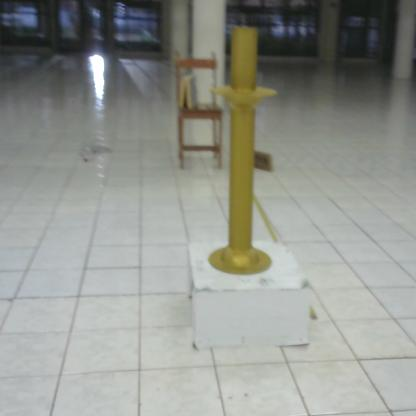pole: (207, 23, 278, 278)
